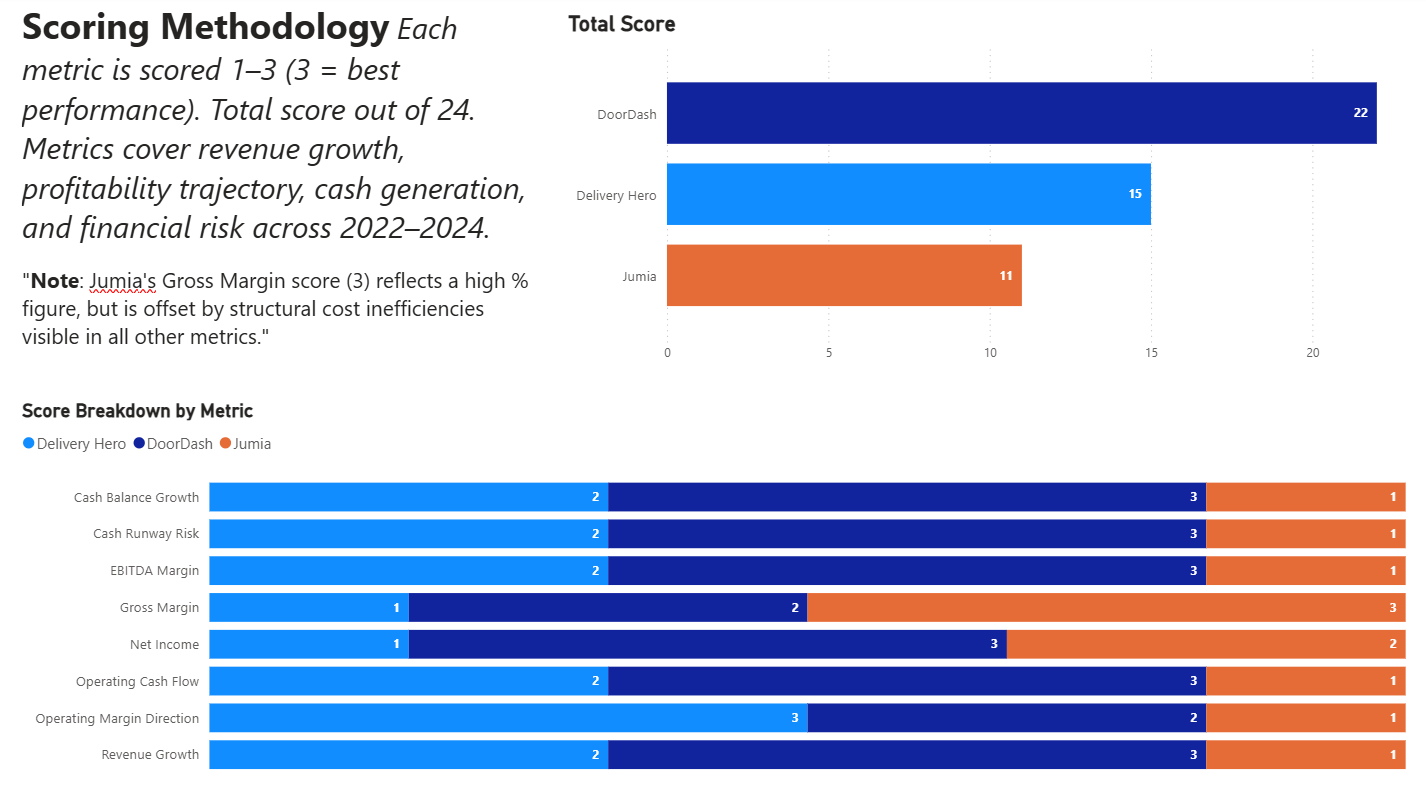

What the dashboard file says about the page in this screenshot:
{"tool":"powerbi","page":{"name":" Investment Scorecard","canvas":[1280,720],"ordinal":3},"visuals":[{"type":"clusteredBarChart","title":"Total Score","fields":{"Y":["Sum(Scorecard.Score)"],"Category":["Scorecard.Company"]},"box":[507,15.1,758.1,320.9],"z":0},{"type":"barChart","title":"Score Breakdown by Metric","fields":{"Category":["Scorecard.Metric"],"Y":["Sum(Scorecard.Score)"],"Series":["Scorecard.Company"]},"box":[14,358.1,1251.2,361.6],"z":1000},{"type":"textbox","box":[14,0,470.9,336],"z":2000}]}

Visuals, with their boxes in screenshot pixels (x1, y1, x2, y2), scaled from the page's 1280x720 canvas onto the 1426x792 screenshot:
"Total Score" clusteredBarChart: BBox(565, 17, 1409, 370)
"Score Breakdown by Metric" barChart: BBox(16, 394, 1410, 791)
textbox: BBox(16, 0, 540, 370)
